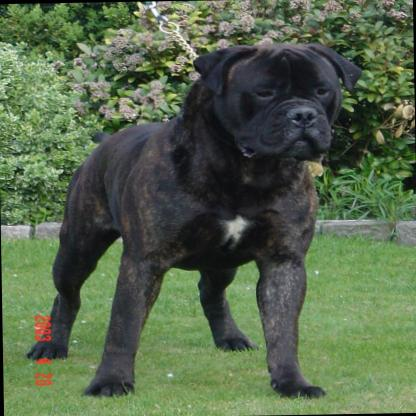bull_mastiff: (19, 41, 368, 401)
